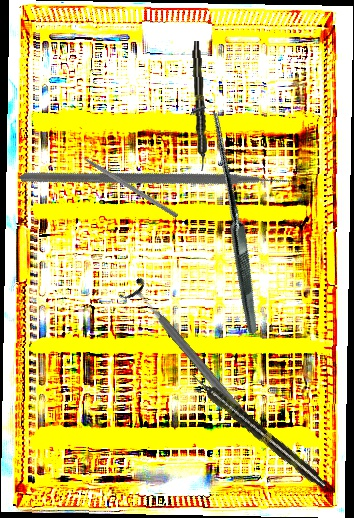Chopper: (18, 55, 308, 320)
Fixation Ring: (117, 275, 275, 449)
Handpiece: (187, 369, 330, 492), (190, 40, 209, 172)
Hook Surgical: (110, 102, 341, 335), (71, 147, 180, 219)
